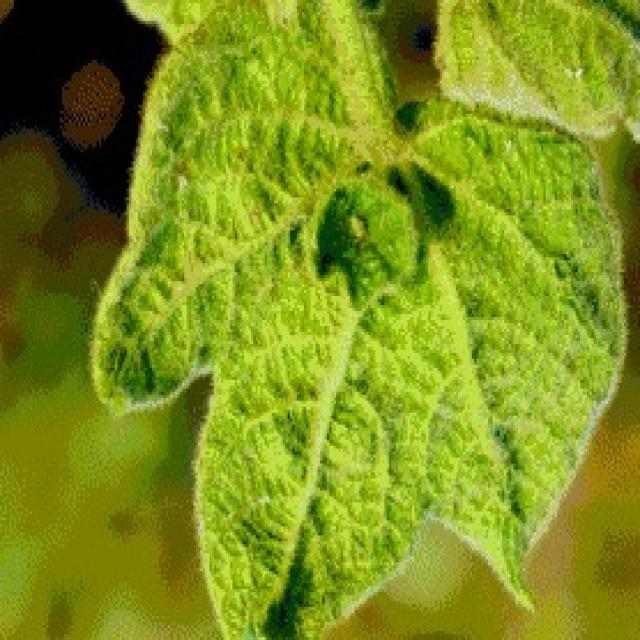Leaf Curl Virus: (180, 56, 564, 494)
